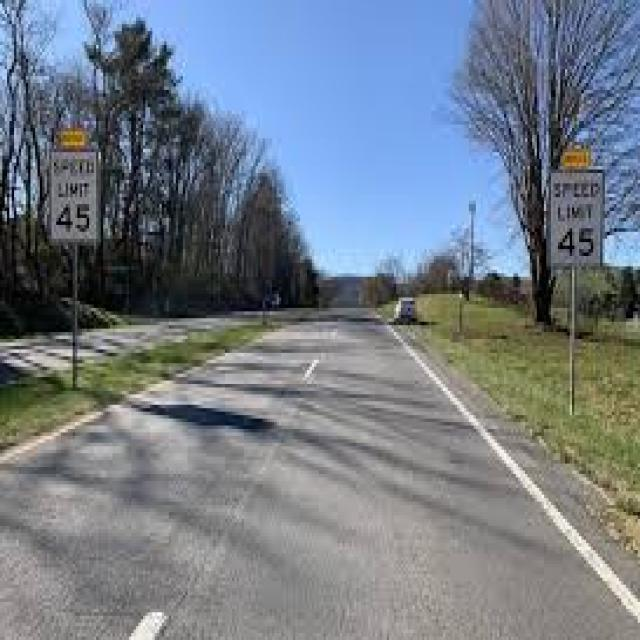speedLimit45: (49, 143, 101, 244), (547, 171, 599, 268)
